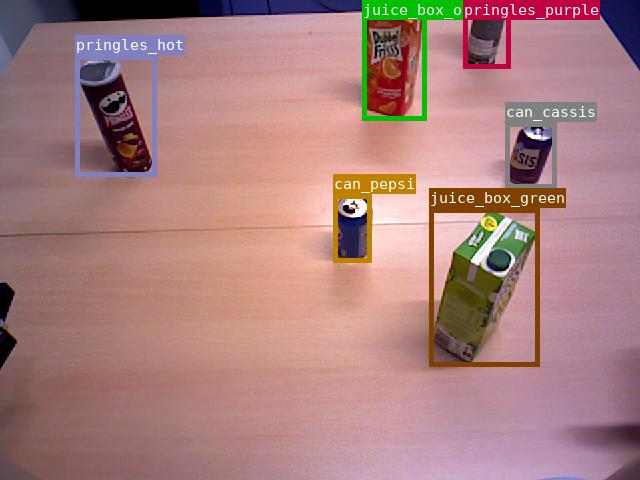can_cassis: (505, 122, 556, 188)
can_pepsi: (333, 194, 371, 262)
juice_box_green: (429, 208, 539, 366)
juice_box_orange: (362, 0, 426, 120)
pringles_hot: (75, 55, 156, 176)
pringles_purple: (463, 0, 510, 68)
